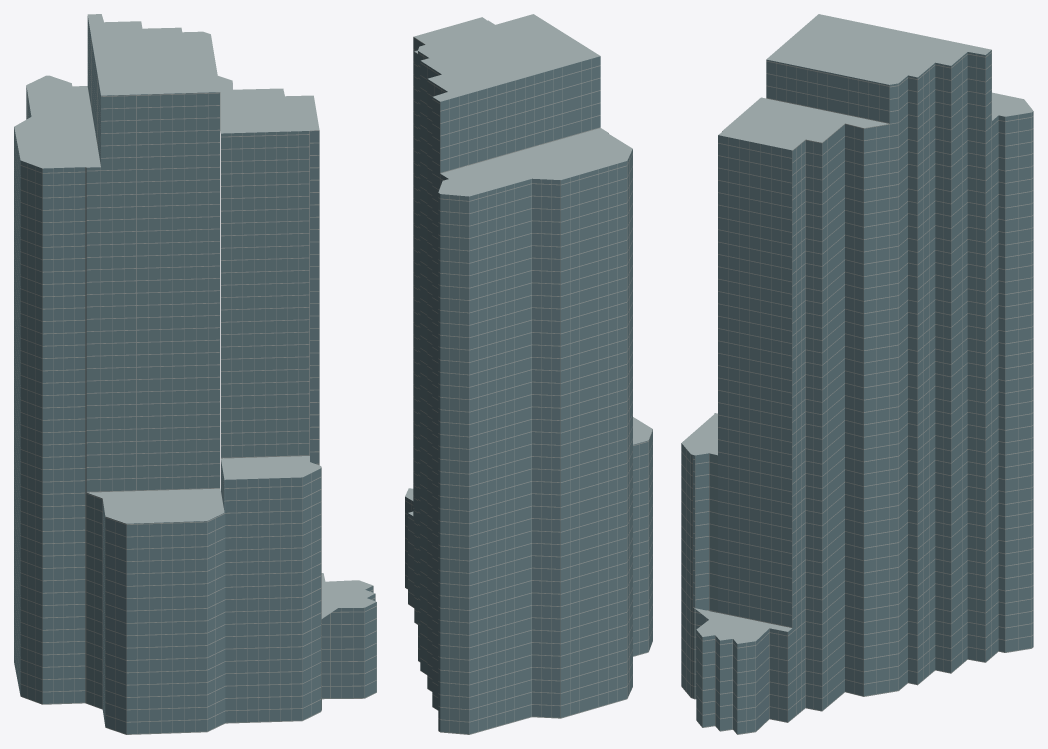
Rendered from tour-total-coupole-near.glb.
3 renders of one model, left to right at view 1: azimuth 30°, elevation 25°; view 2: azimuth 150°, elevation 25°; view 3: azimuth 270°, elevation 25°, orthographic.
Visible parts, largest first — view 1: tour-total-coupole-0-glass, tour-total-coupole-0-frame, tour-total-coupole-0-roof; view 2: tour-total-coupole-0-glass, tour-total-coupole-0-frame, tour-total-coupole-0-roof; view 3: tour-total-coupole-0-glass, tour-total-coupole-0-frame, tour-total-coupole-0-roof.
Part boxes in pixels (bbox=[...]): tour-total-coupole-0-glass: bbox=[14, 16, 376, 734]; tour-total-coupole-0-frame: bbox=[14, 25, 376, 734]; tour-total-coupole-0-roof: bbox=[14, 14, 376, 618]; tour-total-coupole-0-glass: bbox=[405, 37, 652, 734]; tour-total-coupole-0-frame: bbox=[405, 37, 652, 734]; tour-total-coupole-0-roof: bbox=[405, 14, 652, 515]; tour-total-coupole-0-glass: bbox=[681, 50, 1033, 734]; tour-total-coupole-0-frame: bbox=[681, 50, 1033, 734]; tour-total-coupole-0-roof: bbox=[682, 14, 1032, 643].
Bounding box in the file's own units: 91.9 × 187 × 98.2.
